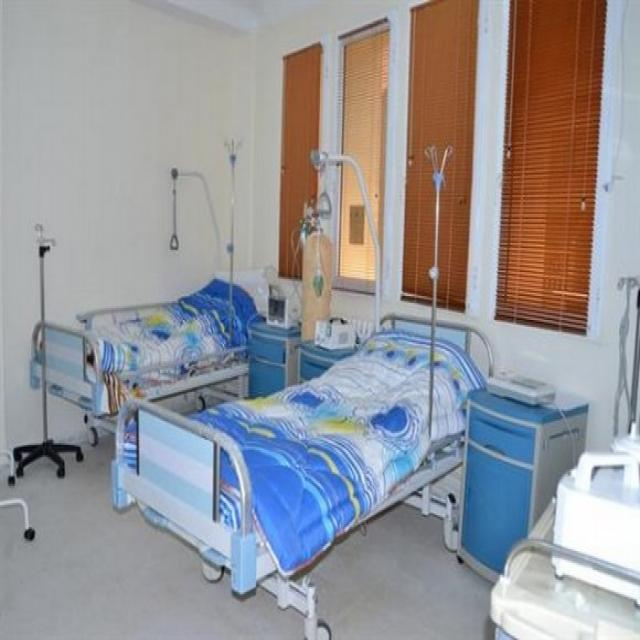bed: (176, 334, 454, 527), (44, 277, 270, 390)
column: (418, 162, 449, 524), (28, 240, 62, 467), (224, 147, 237, 395)
window: (507, 2, 592, 330), (409, 5, 472, 300), (331, 29, 392, 284), (281, 45, 328, 288)
